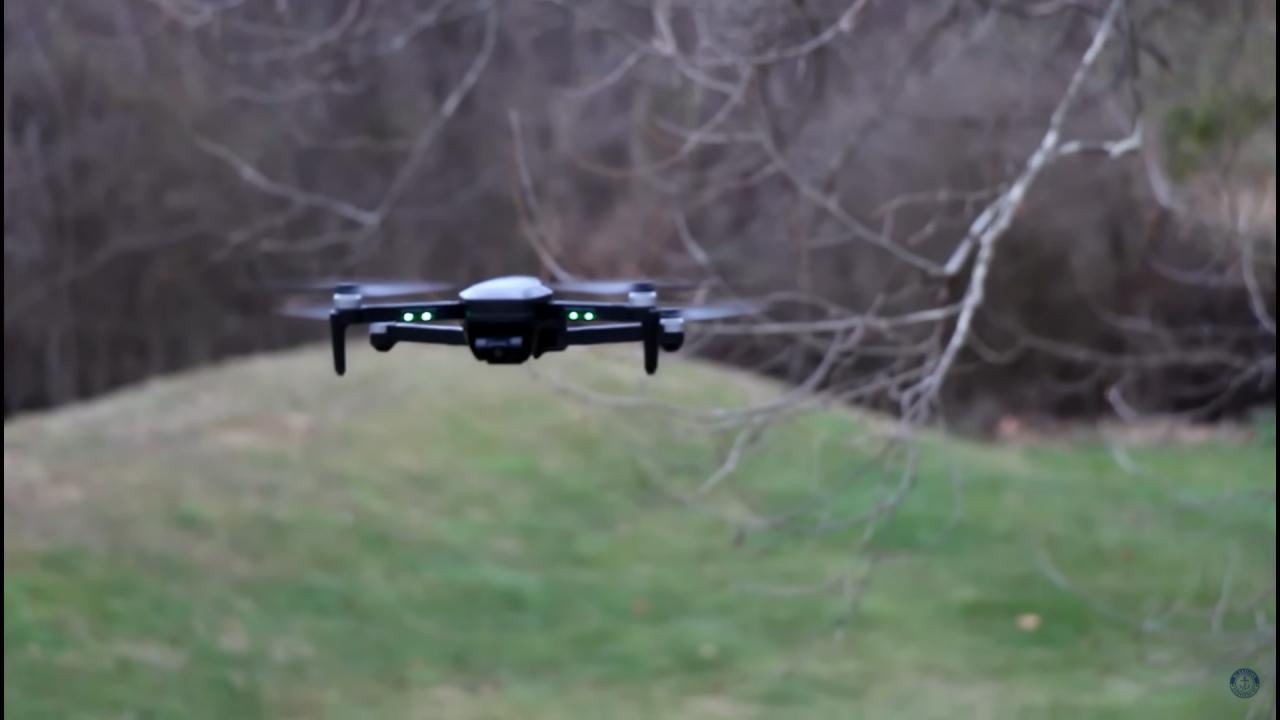Drone: (224, 242, 794, 398)
